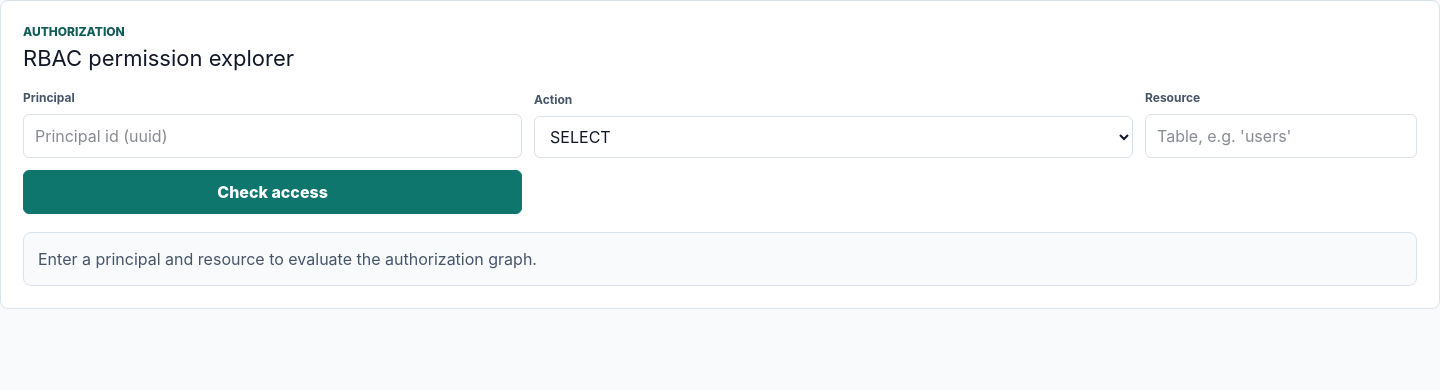
Test: PermissionExplorer › renders a DENY explanation
Type "00000000-0000-0000-0000-000000000001" into the field labelled "Principal" at (273, 136), box [23, 114, 522, 158]
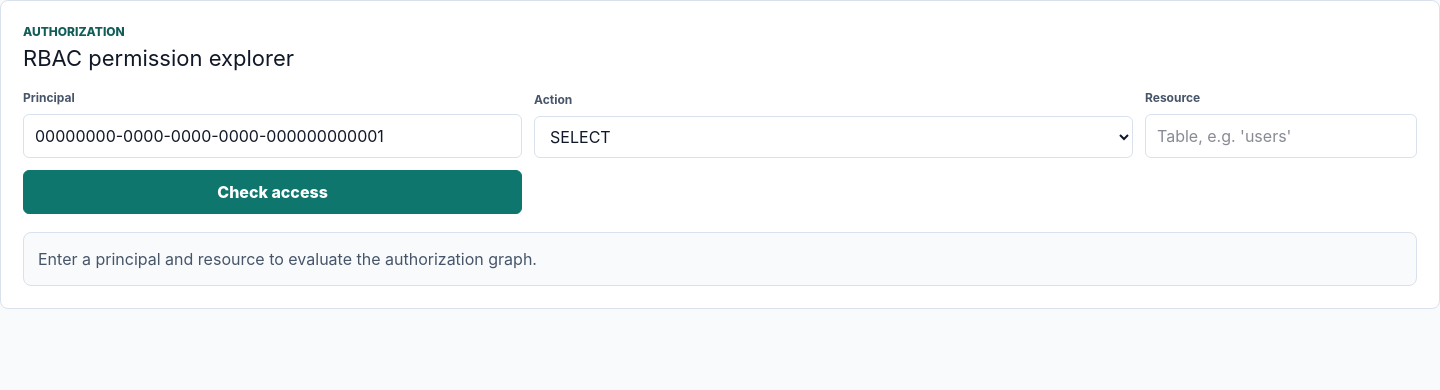
Type "items" into the field labelled "Resource" at (1281, 136), box [1145, 114, 1417, 158]
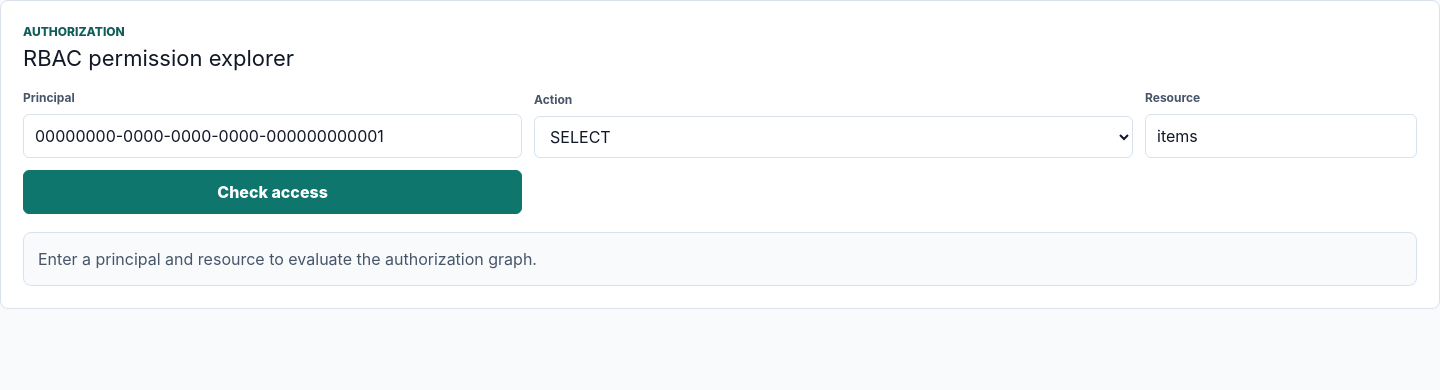
Click the button "Check access" at (273, 192), box [23, 170, 522, 214]
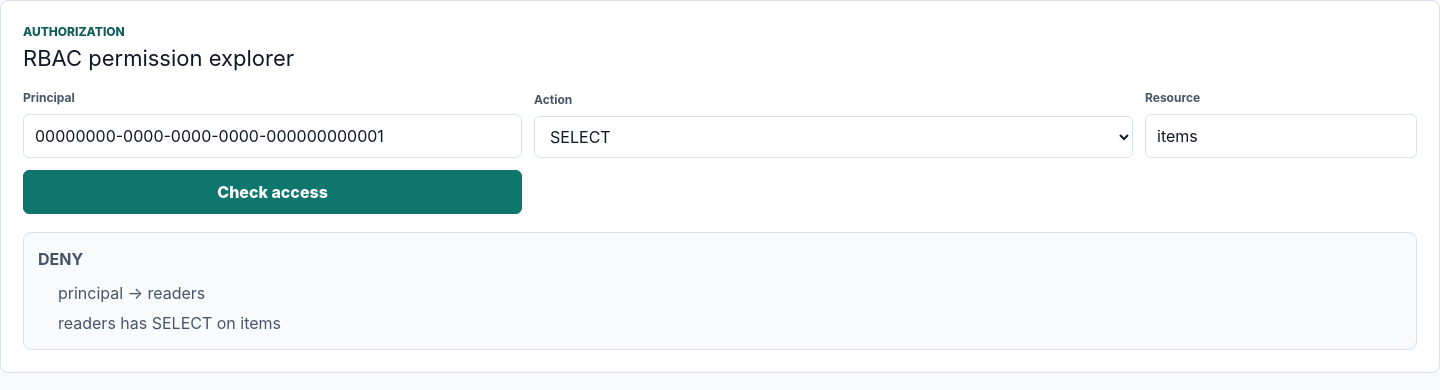
Now the text "DENY" is shown, box [38, 249, 83, 269]
Now the list item "principal -> readers" is shown, box [58, 283, 205, 303]
